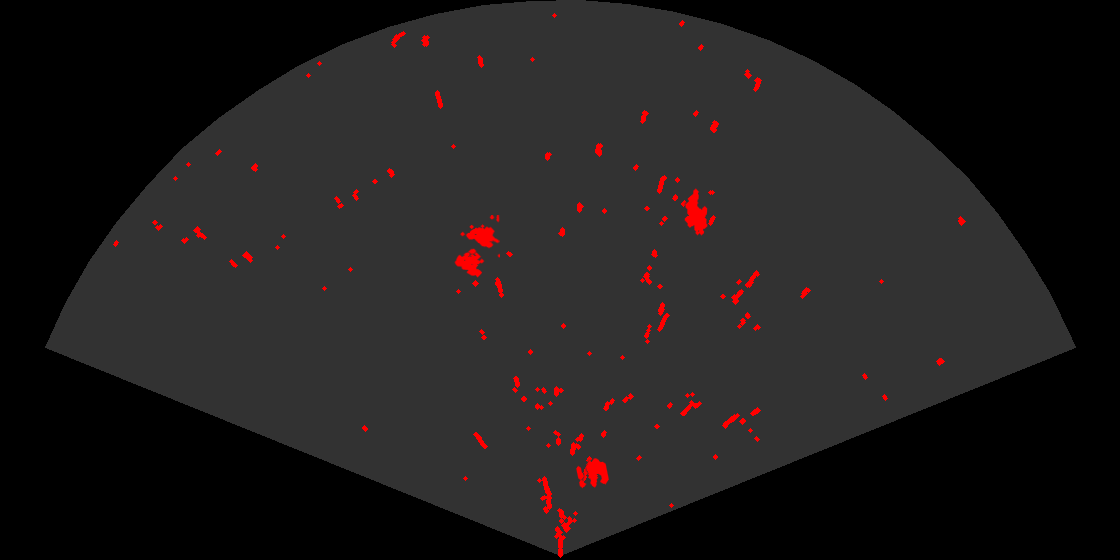AUV: (683, 187, 709, 237)
ball: (575, 457, 610, 490)
cage: (453, 215, 500, 279)
